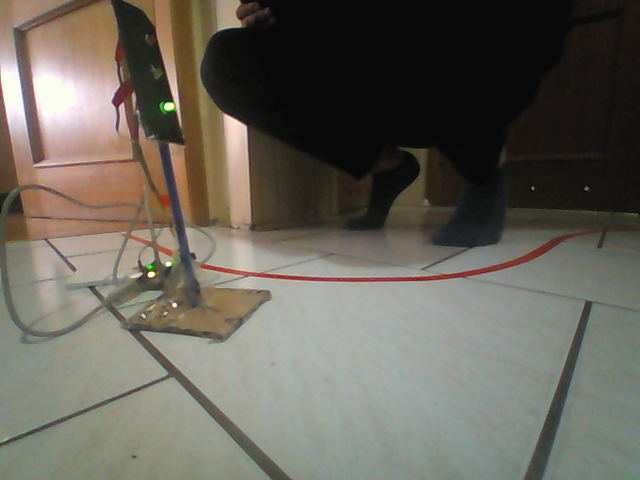green_sign: (109, 1, 185, 143)
